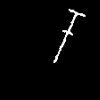double_crochet: (54, 9, 84, 62)
